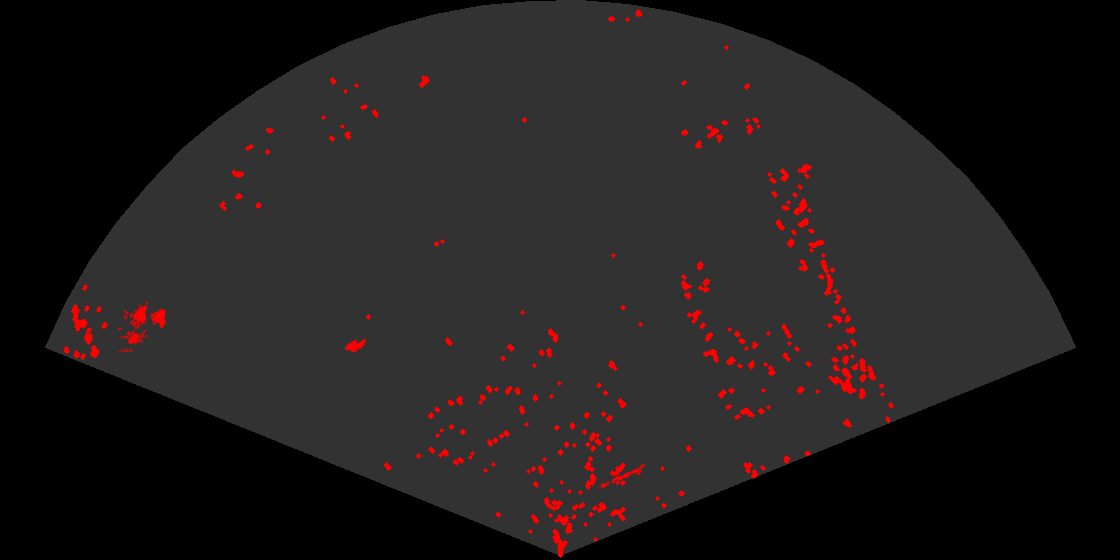AUV: (343, 337, 368, 354)
cage: (124, 300, 168, 340), (118, 311, 149, 352)
chain: (598, 461, 651, 491)
